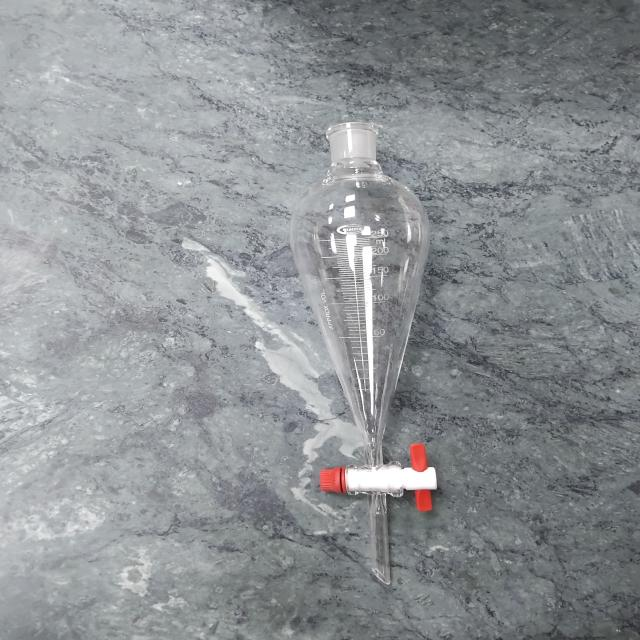Separating_Funnel: (234, 91, 490, 596)
